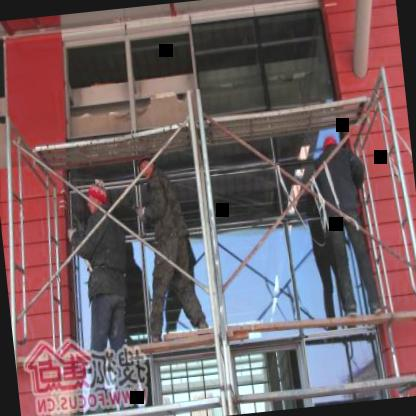helmet: (82, 175, 110, 216), (319, 132, 340, 158)
